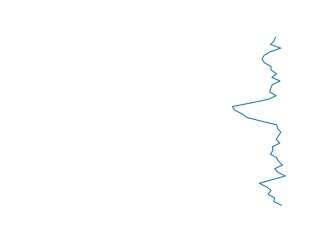interdistributaryEstuary: (228, 38, 293, 207)
